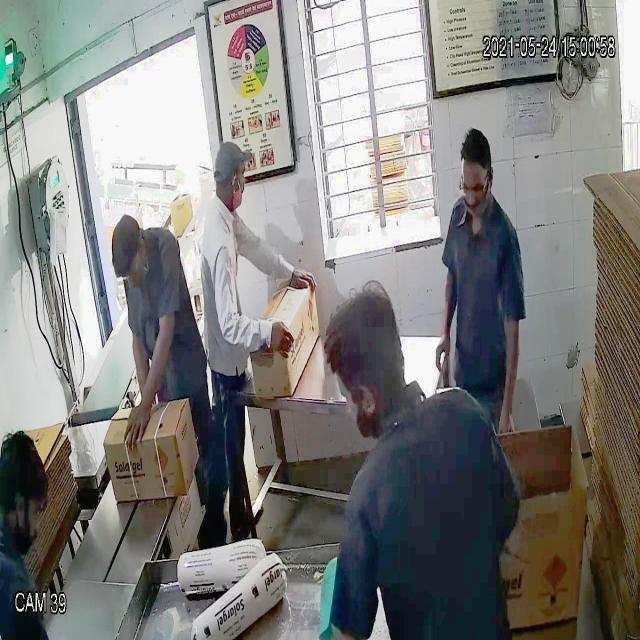glasses: (459, 172, 491, 207)
